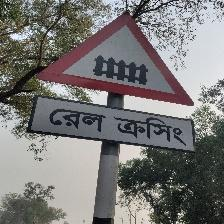Rail-crossing: (29, 9, 197, 154)
